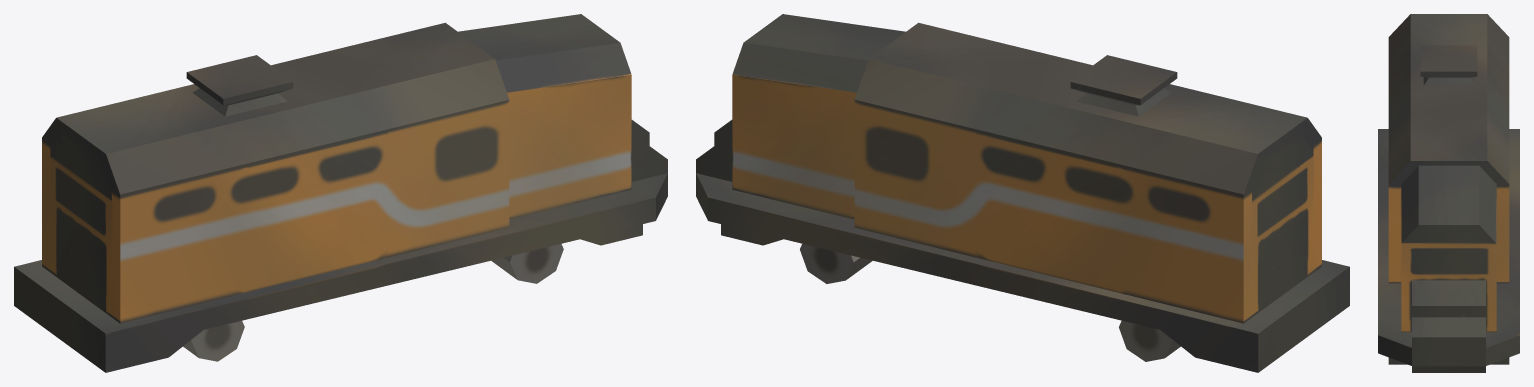
The model's file is Train2.fbx.
3 views of the same model, side by side, from view 1: azimuth 30°, elevation 25°; view 2: azimuth 150°, elevation 25°; view 3: azimuth 270°, elevation 25° (orthographic). The views are drawn at different scales.
Parts seen in each view (by area): view 1: Train2; view 2: Train2; view 3: Train2.
Part boxes in pixels (x1,y1,x2,y2): Train2: (14, 14, 667, 372); Train2: (696, 14, 1349, 372); Train2: (1378, 14, 1519, 372).
Bounding box in the file's own units: 95.99 × 38.48 × 26.08.
